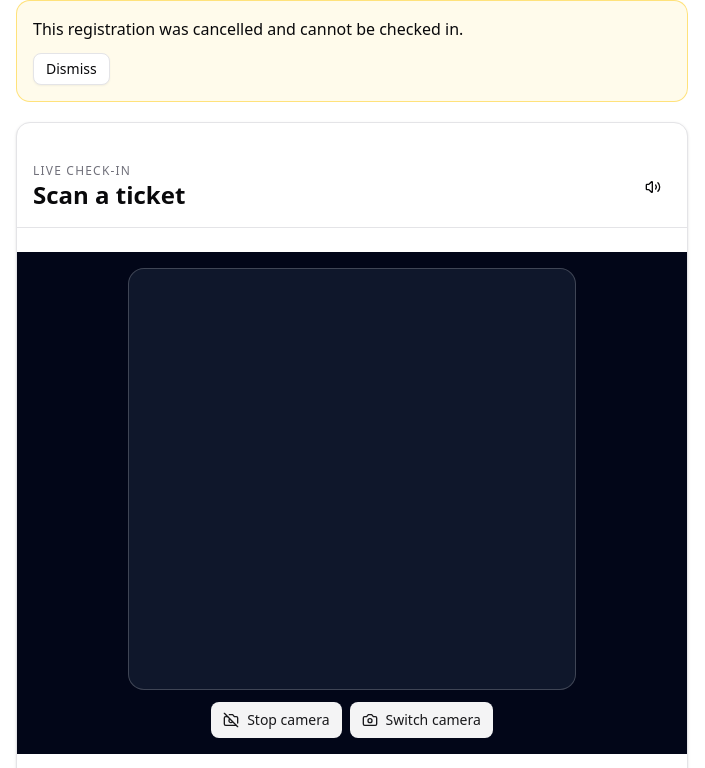
Test: check-in scanner › operations_omittedCreateRegistrationHref_hidesLinkButKeepsDismiss
Expected: the text "This registration was cancelled and cannot be checked in." is shown, left=33, top=18, right=463, bottom=40
Click the button "Dismiss" at [71, 69], box left=33, top=53, right=110, bottom=85
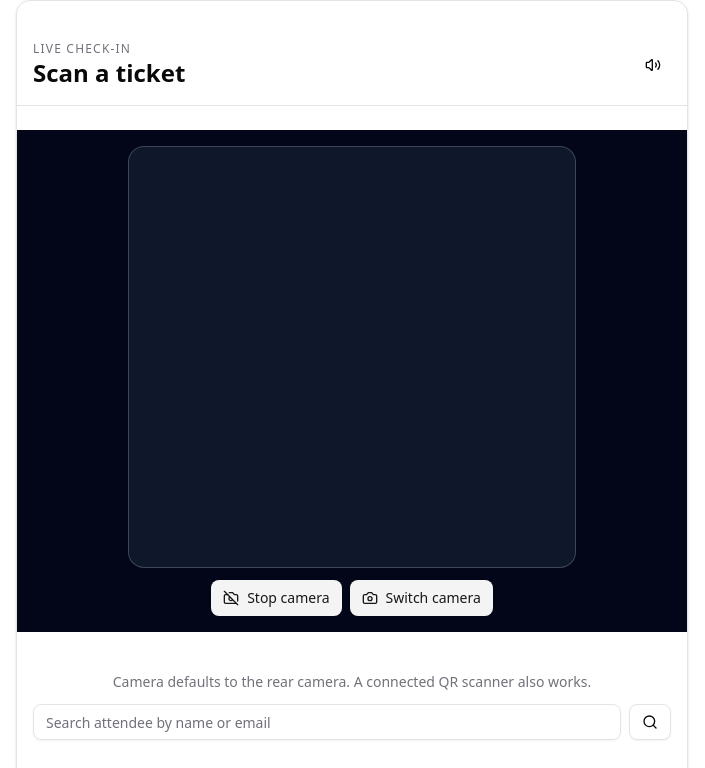
Result: the message "This registration was cancelled and cannot be checked in. Dismiss" is gone
